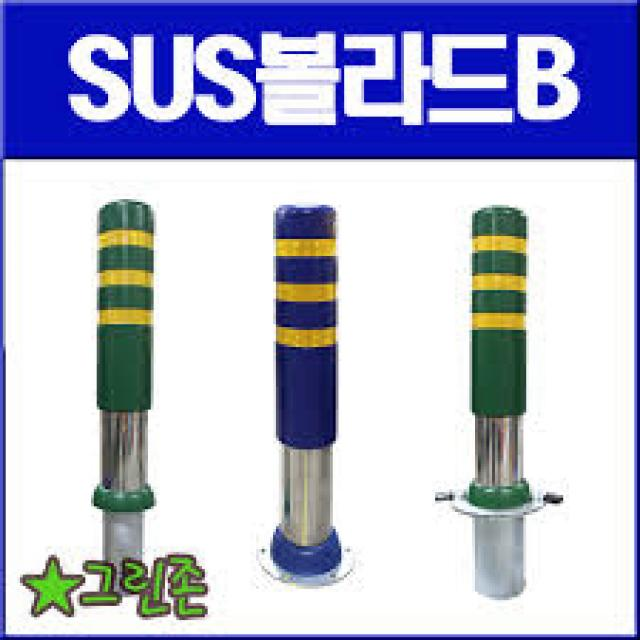bollard: (426, 199, 574, 606), (262, 193, 362, 586), (84, 195, 159, 584)
